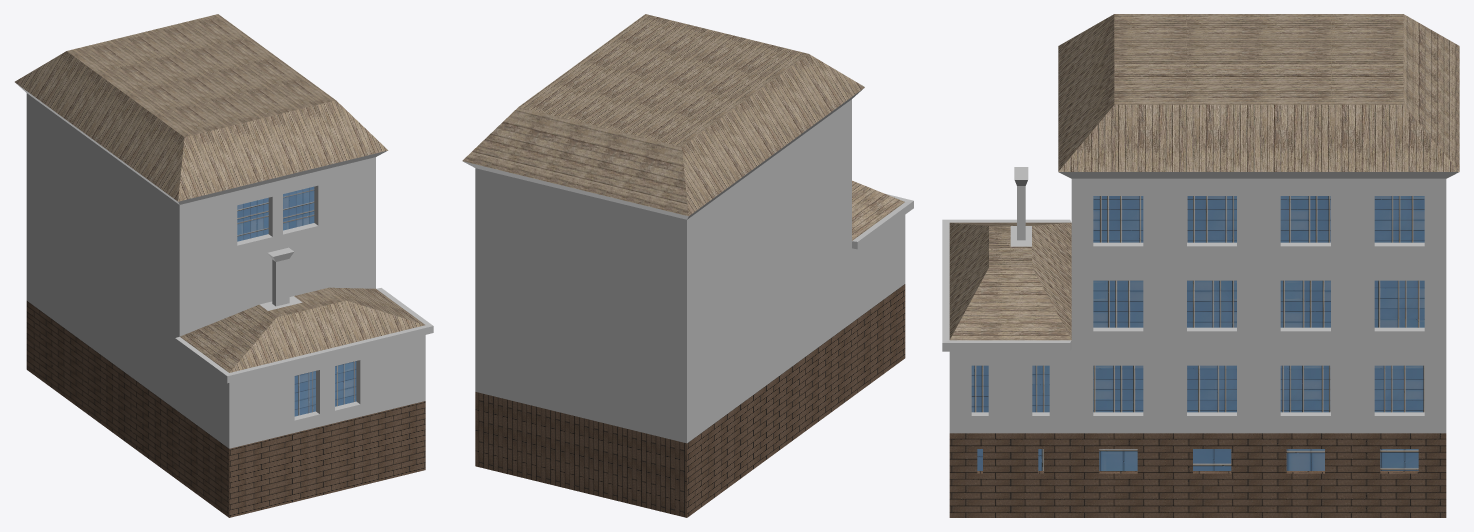
File: дом4.fbx
The picture shows the model from 3 angles, left to right: view 1: azimuth 30°, elevation 25°; view 2: azimuth 150°, elevation 25°; view 3: azimuth 270°, elevation 25°; orthographic projection. The views are drawn at different scales.
Parts seen in each view (by area): view 1: Cube; view 2: Cube; view 3: Cube.
Boxes of the visible parts, x1=… form: Cube: x1=15, y1=14, x2=433, y2=517; Cube: x1=462, y1=14, x2=913, y2=517; Cube: x1=942, y1=14, x2=1459, y2=517.
Size of the model in its own units: 733 by 1086 by 1274.
